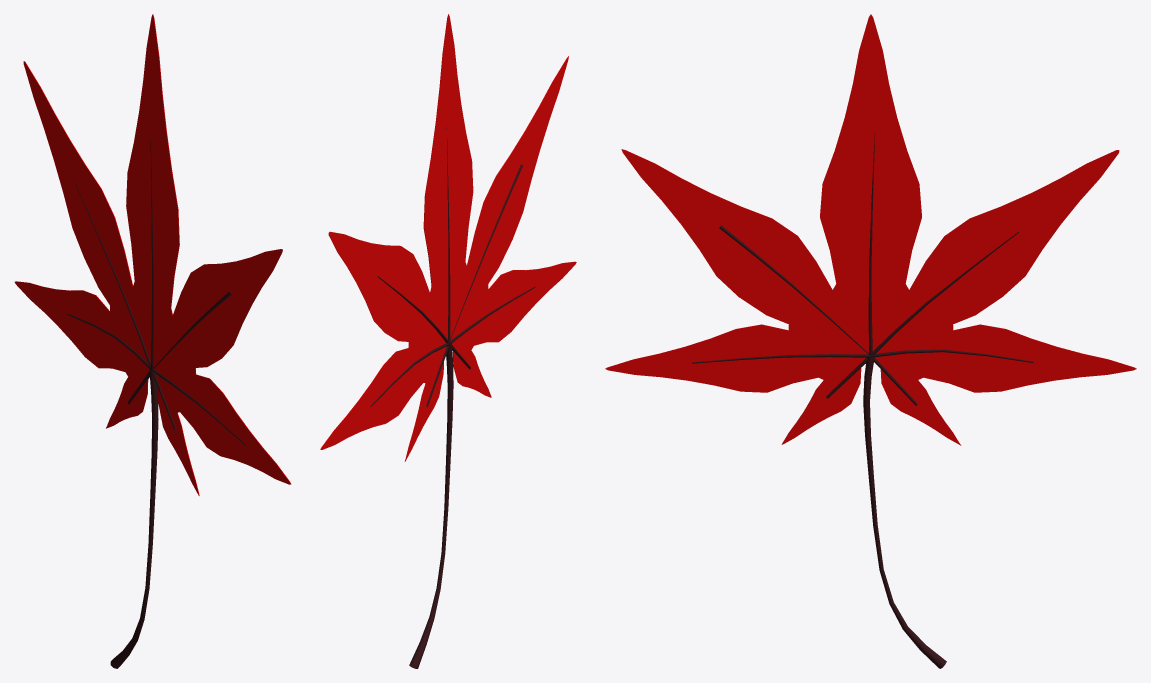
Rendered from Japanese Maple Leaf001.fbx.
3 renders of one model, left to right at view 1: azimuth 30°, elevation 25°; view 2: azimuth 150°, elevation 25°; view 3: azimuth 270°, elevation 25°, orthographic. The views are drawn at different scales.
Parts seen in each view (by area): view 1: Leaf; view 2: Leaf; view 3: Leaf.
Boxes of the visible parts, <box> form: Leaf: <box>14,14,291,668</box>; Leaf: <box>320,14,576,668</box>; Leaf: <box>605,14,1136,668</box>.
Bounding box in the file's own units: 5.1 × 334 × 246.
